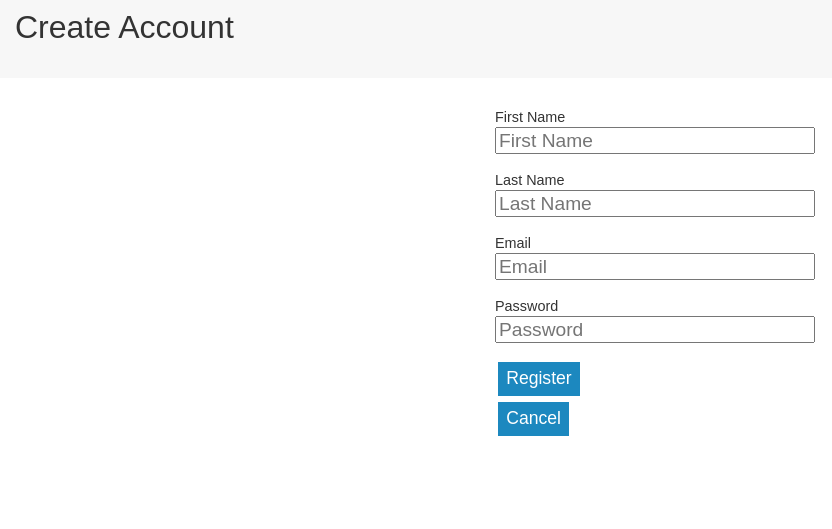
it: should render error message with first name missing
The width and height of the screenshot is (832, 529).
Check: the number of fields is 4, box [495,127,815,154]
Type "Kells" into the field with id "create_form_last_name_field". click: [655, 204]
box: [495,190,815,217]
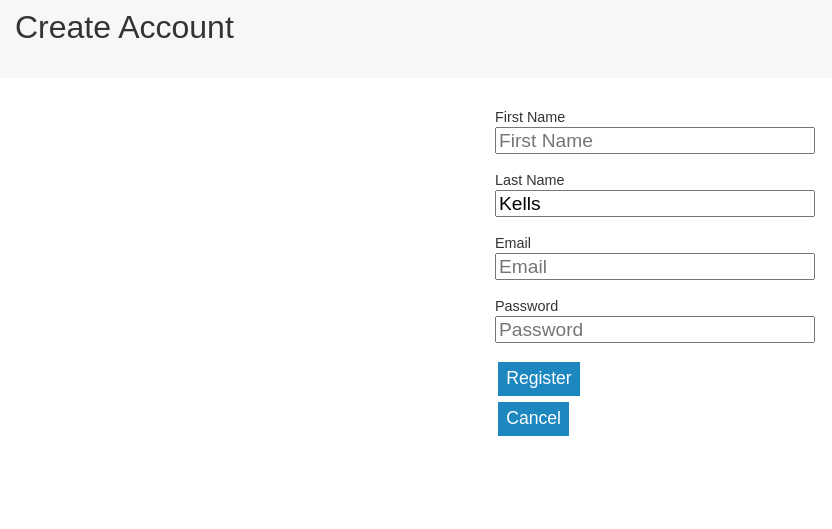
Submit the form, box [495,107,815,399]
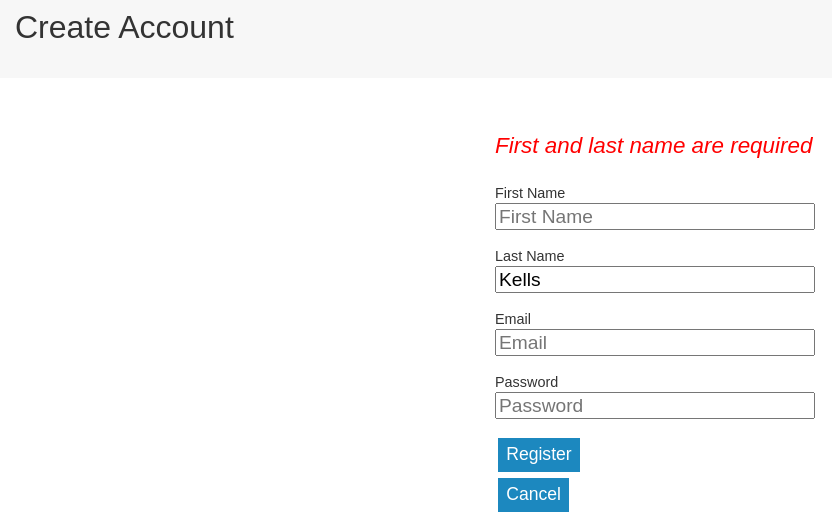
Check: the text "First and last name are required" is shown, box [495,130,815,161]
